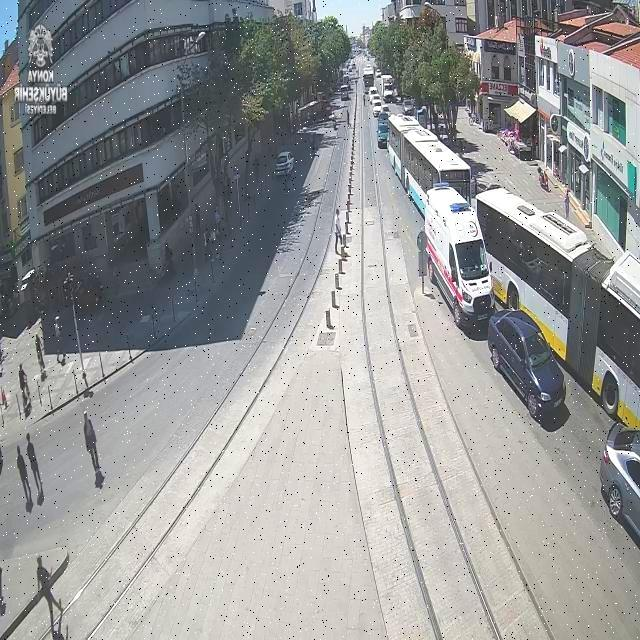Bus: (472, 186, 640, 434), (388, 112, 476, 224)
Car: (487, 309, 568, 416), (599, 422, 640, 553), (61, 271, 106, 311), (273, 152, 295, 176), (376, 115, 389, 147), (19, 269, 36, 293), (403, 99, 415, 114), (372, 105, 382, 117), (372, 98, 382, 110), (341, 90, 350, 100)
Truck: (382, 74, 396, 102)
Van: (426, 184, 496, 327)
